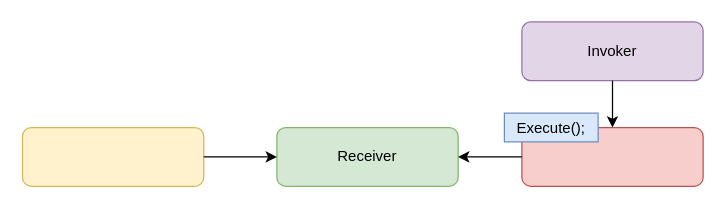
The diagram is 725 pixels wide and 209 high, and some of its shapes have lost their labels. The shapes that lost their labels are listed below. From the top down, each one's box as (x1, y1, x2, y2) in pixels, then its label:
(21, 126, 204, 186): << CLIENT >>
(521, 126, 703, 186): << Command >>
